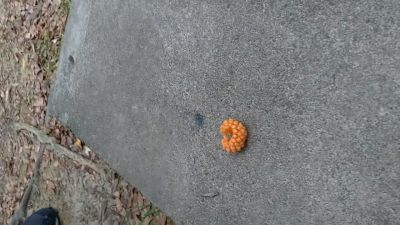eggs: (220, 117, 248, 155)
